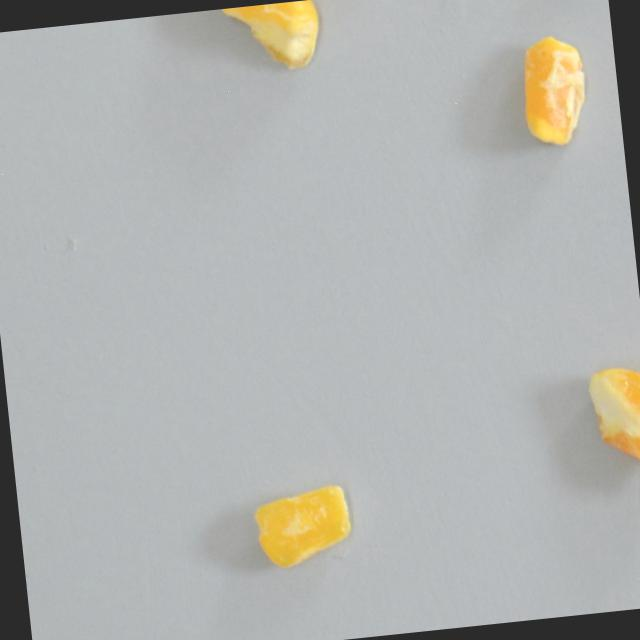pelicula: (505, 19, 603, 154), (247, 477, 359, 572), (578, 341, 640, 506), (216, 0, 326, 76)
